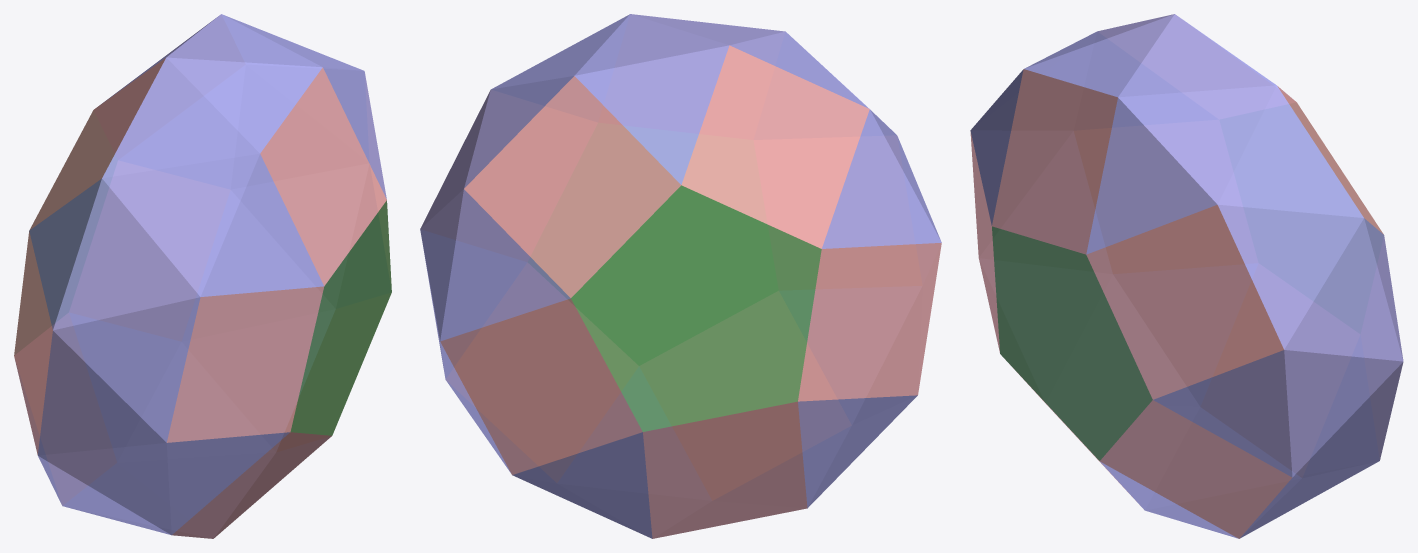
The model's file is j46_gyroelongated_pentagonal_bicupola.obj.
3 views of the same model, side by side, from view 1: azimuth 30°, elevation 25°; view 2: azimuth 150°, elevation 25°; view 3: azimuth 270°, elevation 25° (orthographic).
Size of the model in its own units: 1.96 by 2.12 by 1.73.
